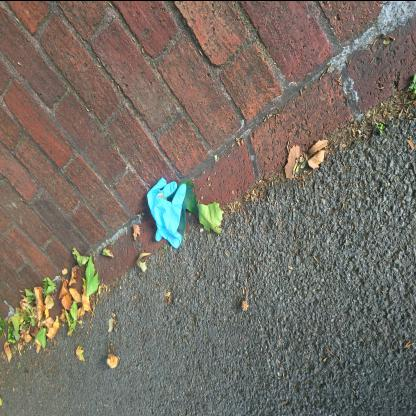plastik: (146, 176, 188, 247)
